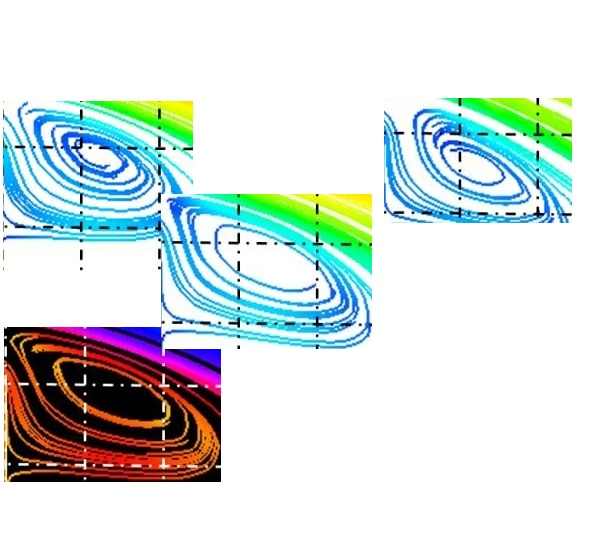vortox: (4, 327, 221, 483), (159, 196, 374, 346), (2, 102, 198, 238), (383, 96, 573, 224)
